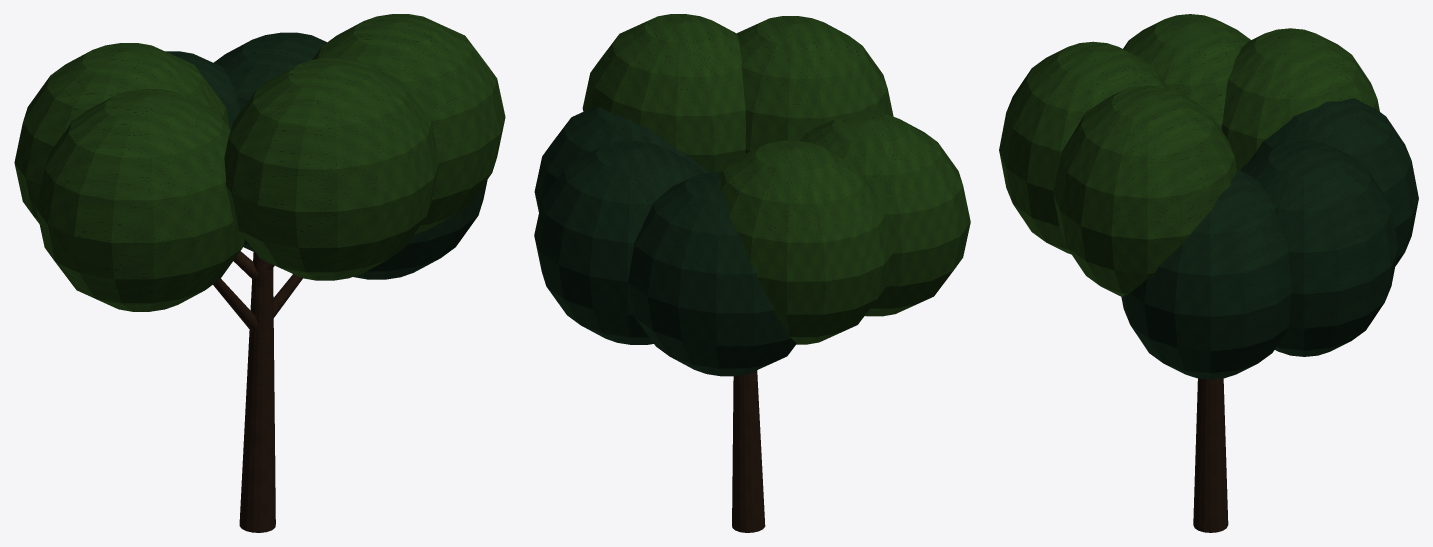
File: PROP-79AFE6831372_lod0.glb
3 views of the same model, side by side, from view 1: azimuth 30°, elevation 25°; view 2: azimuth 150°, elevation 25°; view 3: azimuth 270°, elevation 25° (orthographic). The views are drawn at different scales.
Parts seen in each view (by area): view 1: leaf_crown.066, leaf_crown.065, trunk.060, branch.037; view 2: leaf_crown.066, leaf_crown.065, trunk.060; view 3: leaf_crown.066, leaf_crown.065, trunk.060.
Part boxes in pixels (x1,y1,x2,y2): leaf_crown.066: (14, 14, 505, 311); leaf_crown.065: (165, 32, 487, 279); trunk.060: (239, 250, 275, 532); branch.037: (213, 251, 302, 331); leaf_crown.066: (582, 14, 970, 344); leaf_crown.065: (534, 107, 796, 376); trunk.060: (732, 370, 765, 532); leaf_crown.066: (999, 14, 1379, 296); leaf_crown.065: (1121, 98, 1418, 379); trunk.060: (1193, 378, 1228, 532).
Bounding box in the file's own units: 6.69 × 7.24 × 5.75.
Materials: 3 (3 with a texture image).
